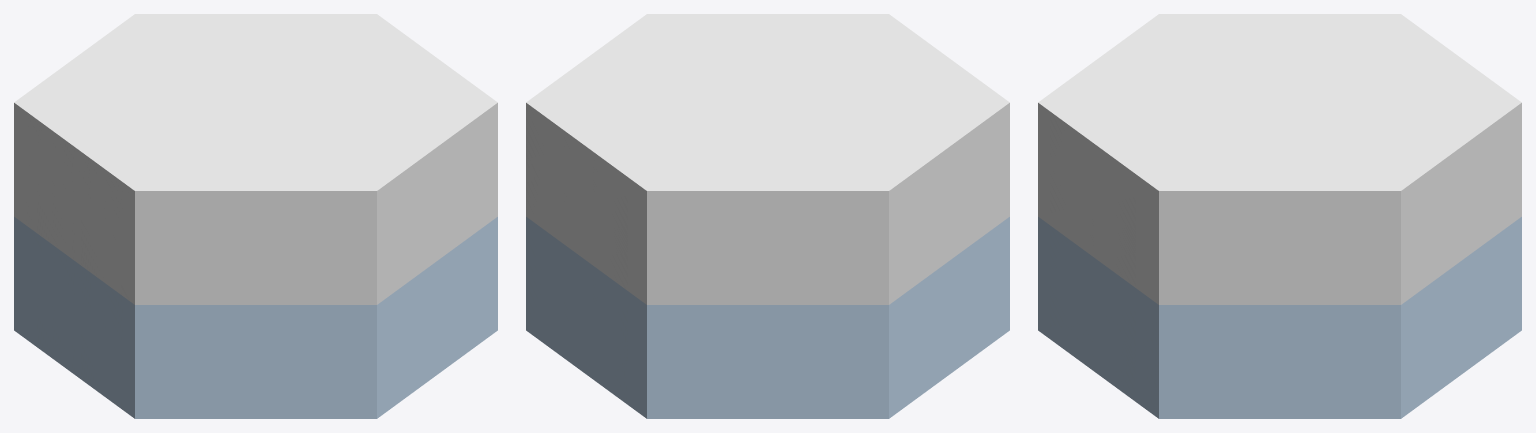
Rendered from flat_iceland.glb.
3 views of the same model, side by side, from view 1: azimuth 30°, elevation 25°; view 2: azimuth 150°, elevation 25°; view 3: azimuth 270°, elevation 25° (orthographic).
Visible parts, largest first — view 1: grass; view 2: grass; view 3: grass.
Boxes of the visible parts, x1,y1,x2,y2 form: grass: [14, 14, 497, 418]; grass: [526, 14, 1009, 418]; grass: [1038, 14, 1521, 418].
Size of the model in its own units: 1 by 0.6 by 1.15.
1 material, 1 textured.
